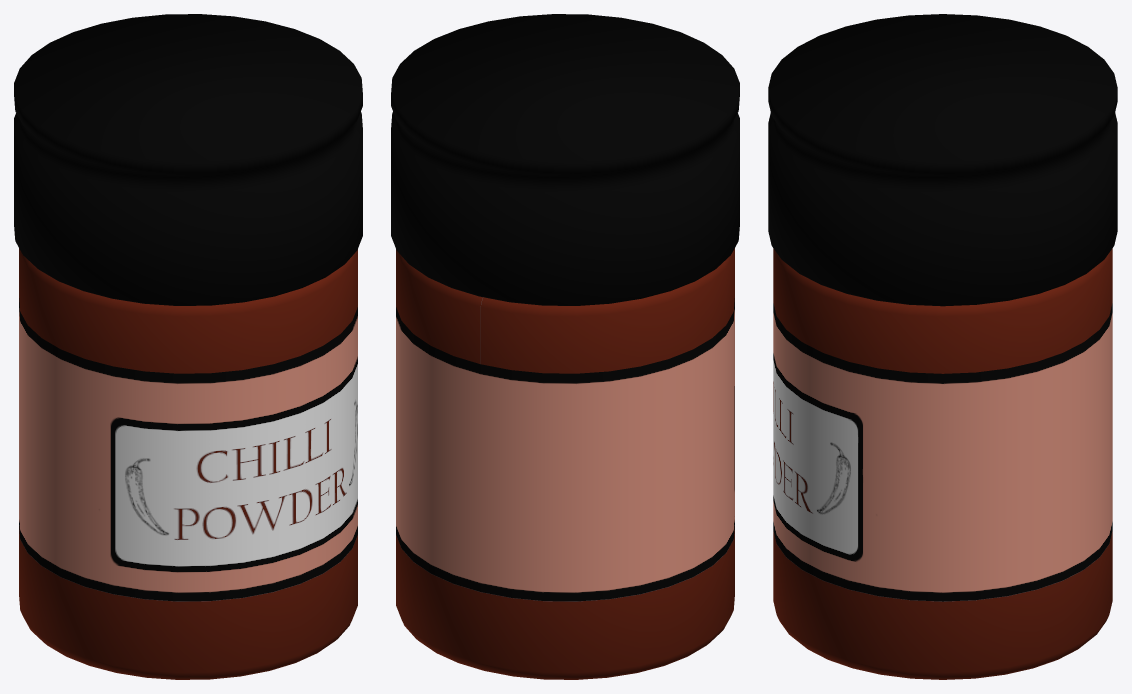
File: chilliPowder.fbx
3 renders of one model, left to right at view 1: azimuth 30°, elevation 25°; view 2: azimuth 150°, elevation 25°; view 3: azimuth 270°, elevation 25°, orthographic.
Parts seen in each view (by area): view 1: chilliPowder; view 2: chilliPowder; view 3: chilliPowder.
Part boxes in pixels (box(x1,y1,x2,y2)): chilliPowder: box(14, 14, 362, 679); chilliPowder: box(391, 14, 739, 679); chilliPowder: box(768, 14, 1117, 679).
Size of the model in its own units: 206 by 345 by 206.
2 materials, 1 textured.
